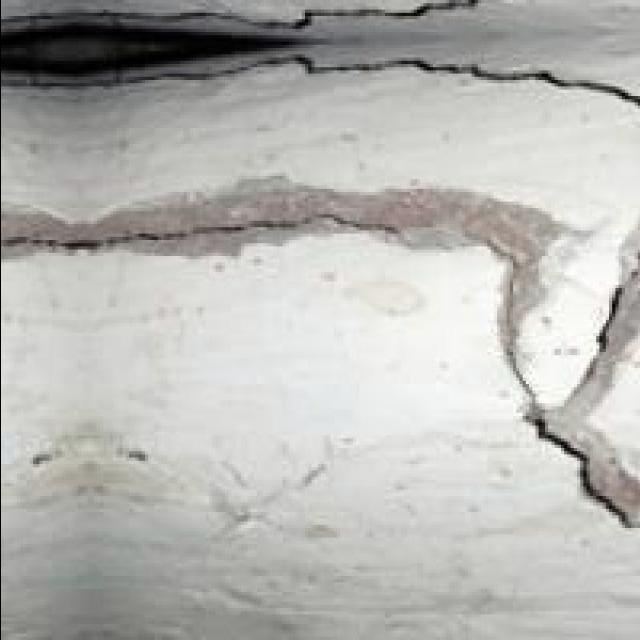SurfaceCrack: (0, 182, 396, 292), (518, 228, 640, 552)
